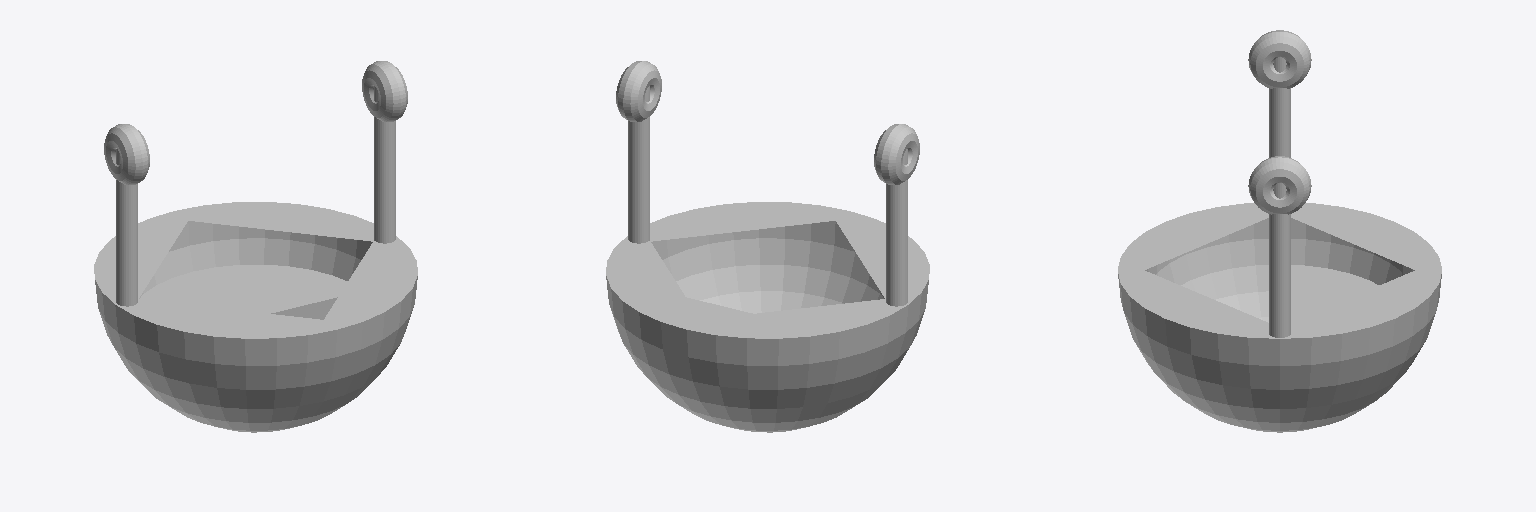
Rendered from carrinho.obj.
3 renders of one model, left to right at view 1: azimuth 30°, elevation 25°; view 2: azimuth 150°, elevation 25°; view 3: azimuth 270°, elevation 25°, orthographic.
Parts seen in each view (by area): view 1: Sphere.001_Sphere.006; view 2: Sphere.001_Sphere.006; view 3: Sphere.001_Sphere.006.
Boxes of the visible parts, <box> form: Sphere.001_Sphere.006: <box>94,61,417,432</box>; Sphere.001_Sphere.006: <box>606,61,929,432</box>; Sphere.001_Sphere.006: <box>1118,30,1441,432</box>.
Size of the model in its own units: 3.62 by 3.95 by 3.6.